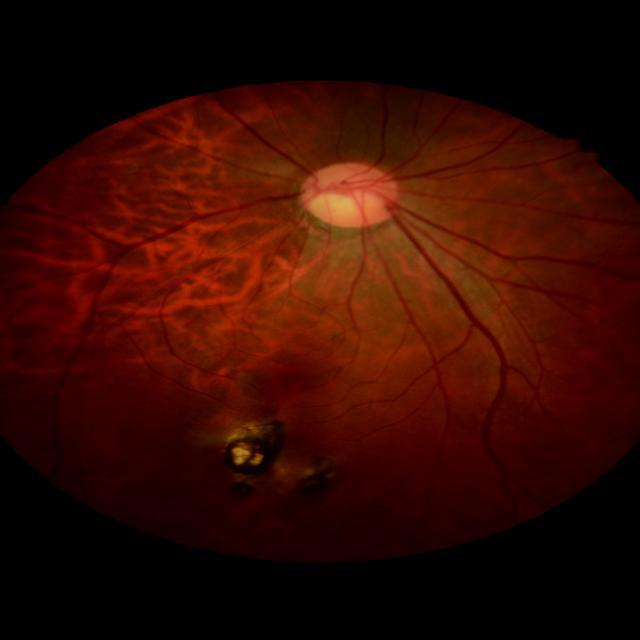cup: (306, 181, 384, 215)
disk: (299, 160, 398, 227)
